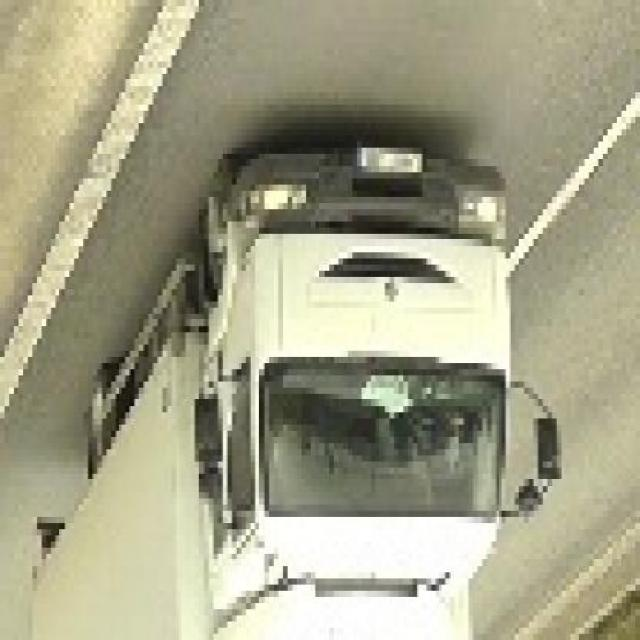truck: (43, 143, 563, 640)
